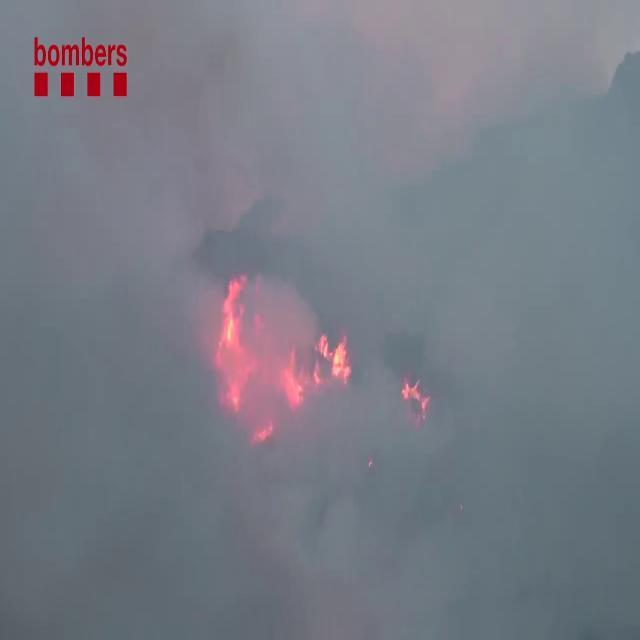Fire: (282, 322, 352, 405), (218, 266, 252, 401), (400, 367, 432, 418)
Smoke: (8, 1, 640, 640)
